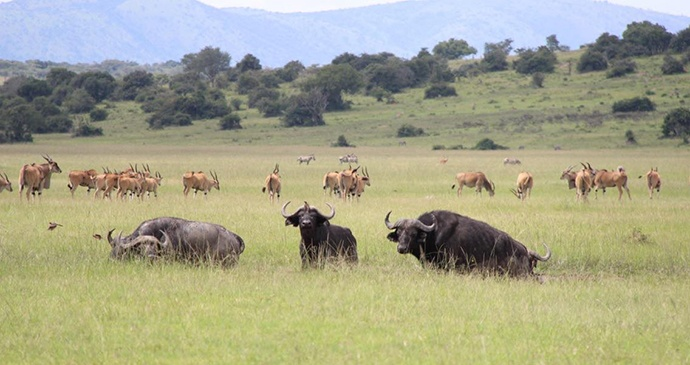buffalo: (383, 203, 554, 290), (100, 212, 249, 280), (278, 196, 365, 278)
